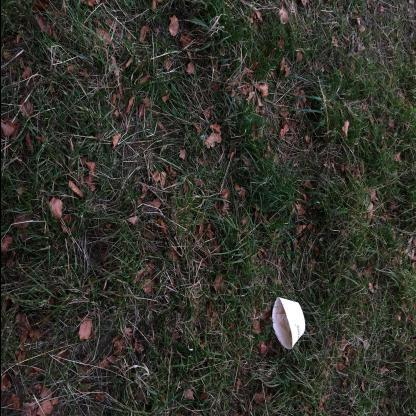karton: (272, 298, 306, 351)
